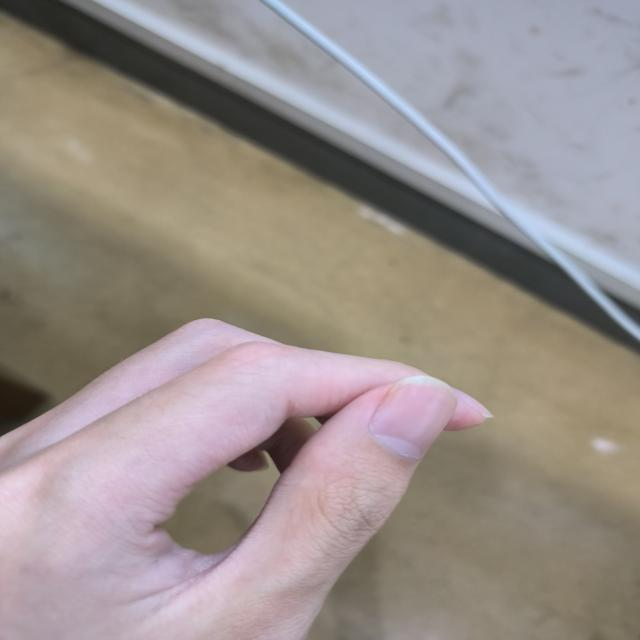Nail: (368, 377, 460, 460)
